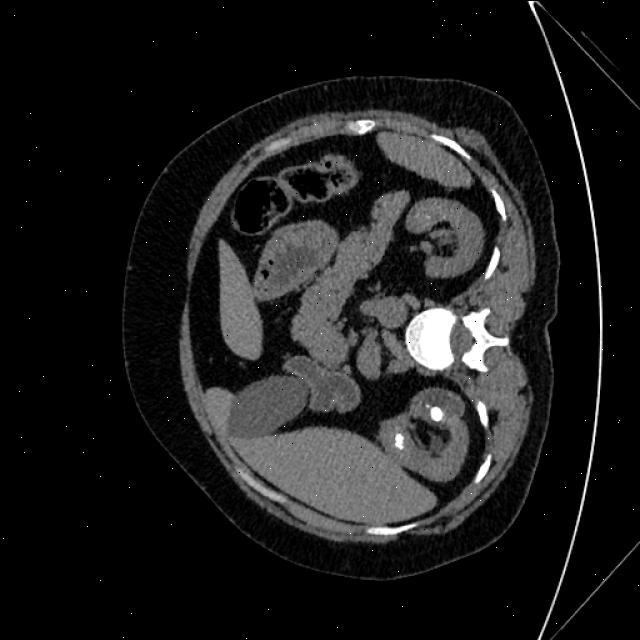kidneystone: (431, 406, 443, 421)
